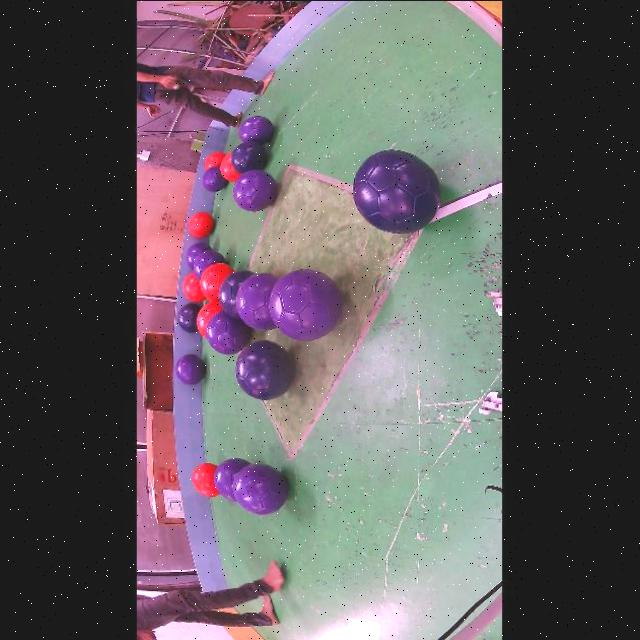B: (352, 149, 439, 233), (235, 339, 292, 399), (217, 269, 253, 318), (230, 140, 267, 173), (177, 302, 199, 332)
P: (268, 268, 342, 341), (231, 464, 287, 515), (235, 272, 276, 329), (206, 309, 250, 355), (232, 169, 277, 211), (213, 457, 249, 501), (237, 115, 273, 144), (193, 249, 225, 278), (175, 353, 204, 384), (185, 240, 211, 268), (202, 165, 227, 191)
R: (199, 262, 232, 300), (196, 300, 222, 337), (190, 462, 218, 495), (182, 271, 206, 301), (187, 211, 213, 236), (220, 153, 240, 182), (203, 151, 225, 169)
